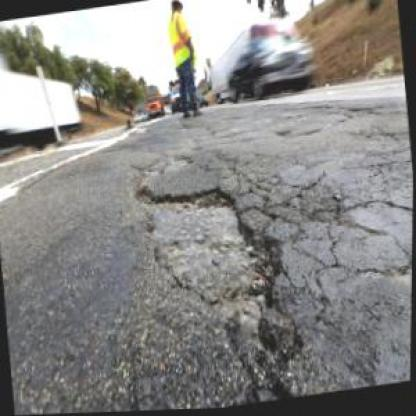pothole: (130, 164, 292, 322), (223, 310, 308, 406), (136, 151, 191, 180)
